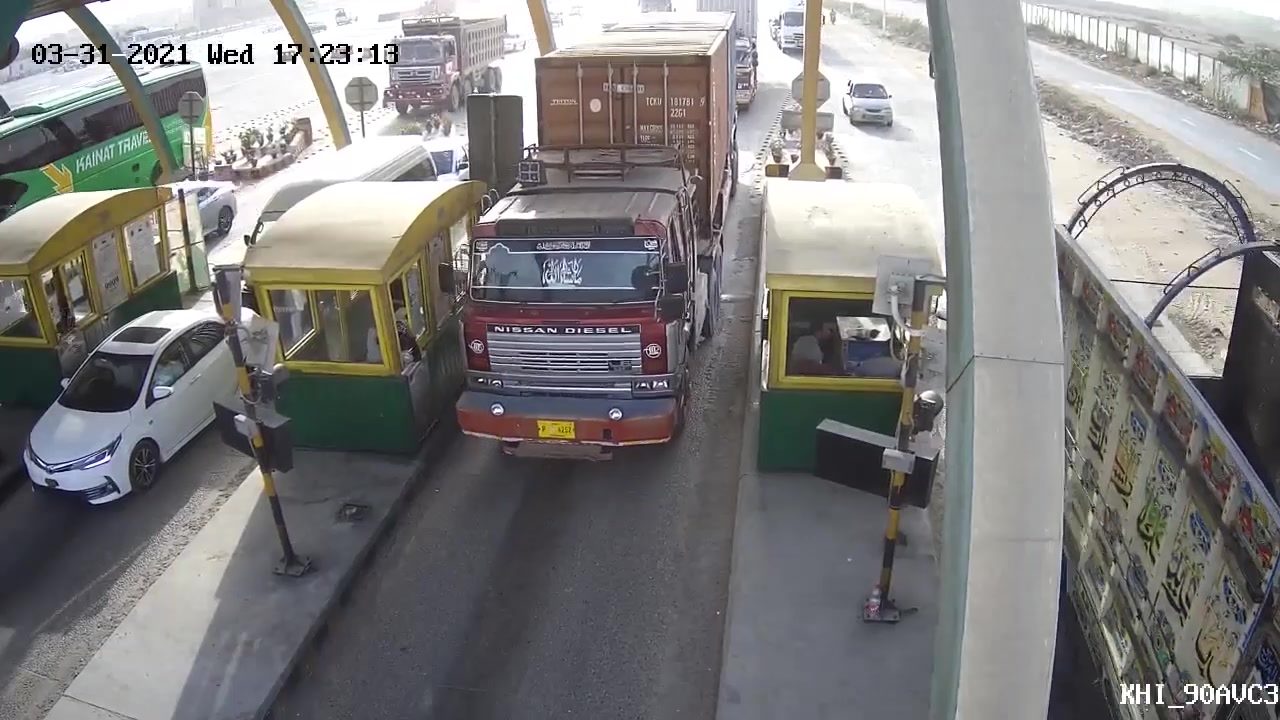F6: (442, 19, 745, 464)
